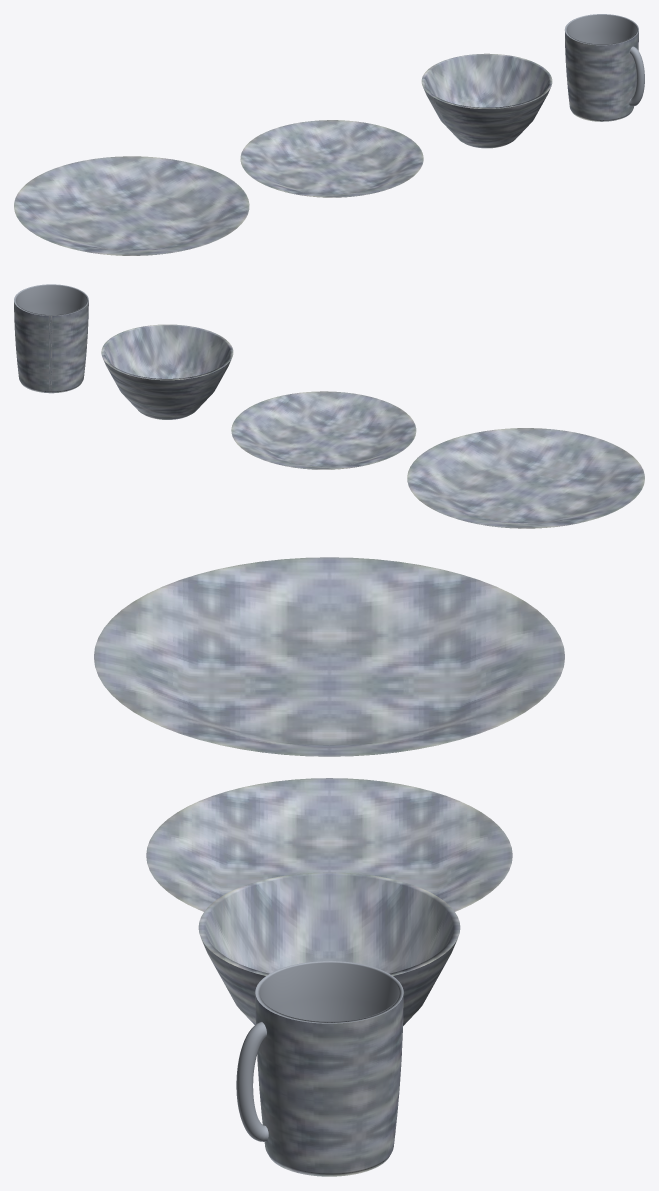
File: MAR-08.glb
The picture shows the model from 3 angles, top to bottom: view 1: azimuth 30°, elevation 25°; view 2: azimuth 150°, elevation 25°; view 3: azimuth 270°, elevation 25°; orthographic projection. The views are drawn at different scales.
Bounding box in the file's own units: 0.7995 × 0.1 × 0.27.
9 materials, 7 textured.
